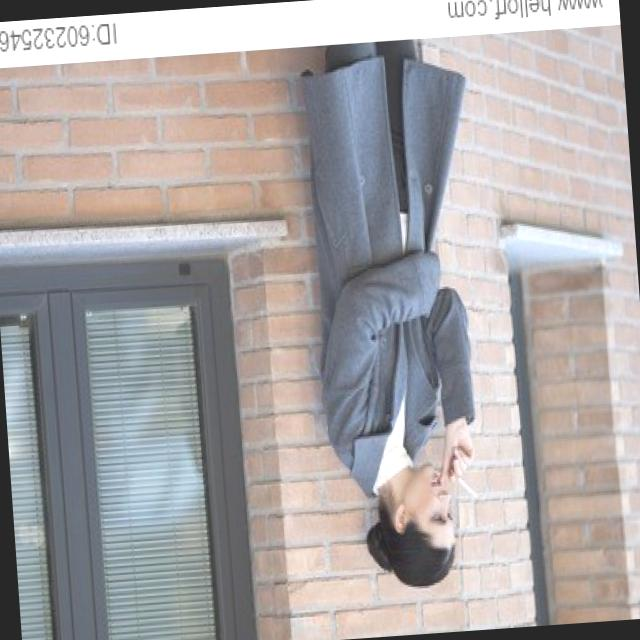smoke: (456, 472, 482, 502)
